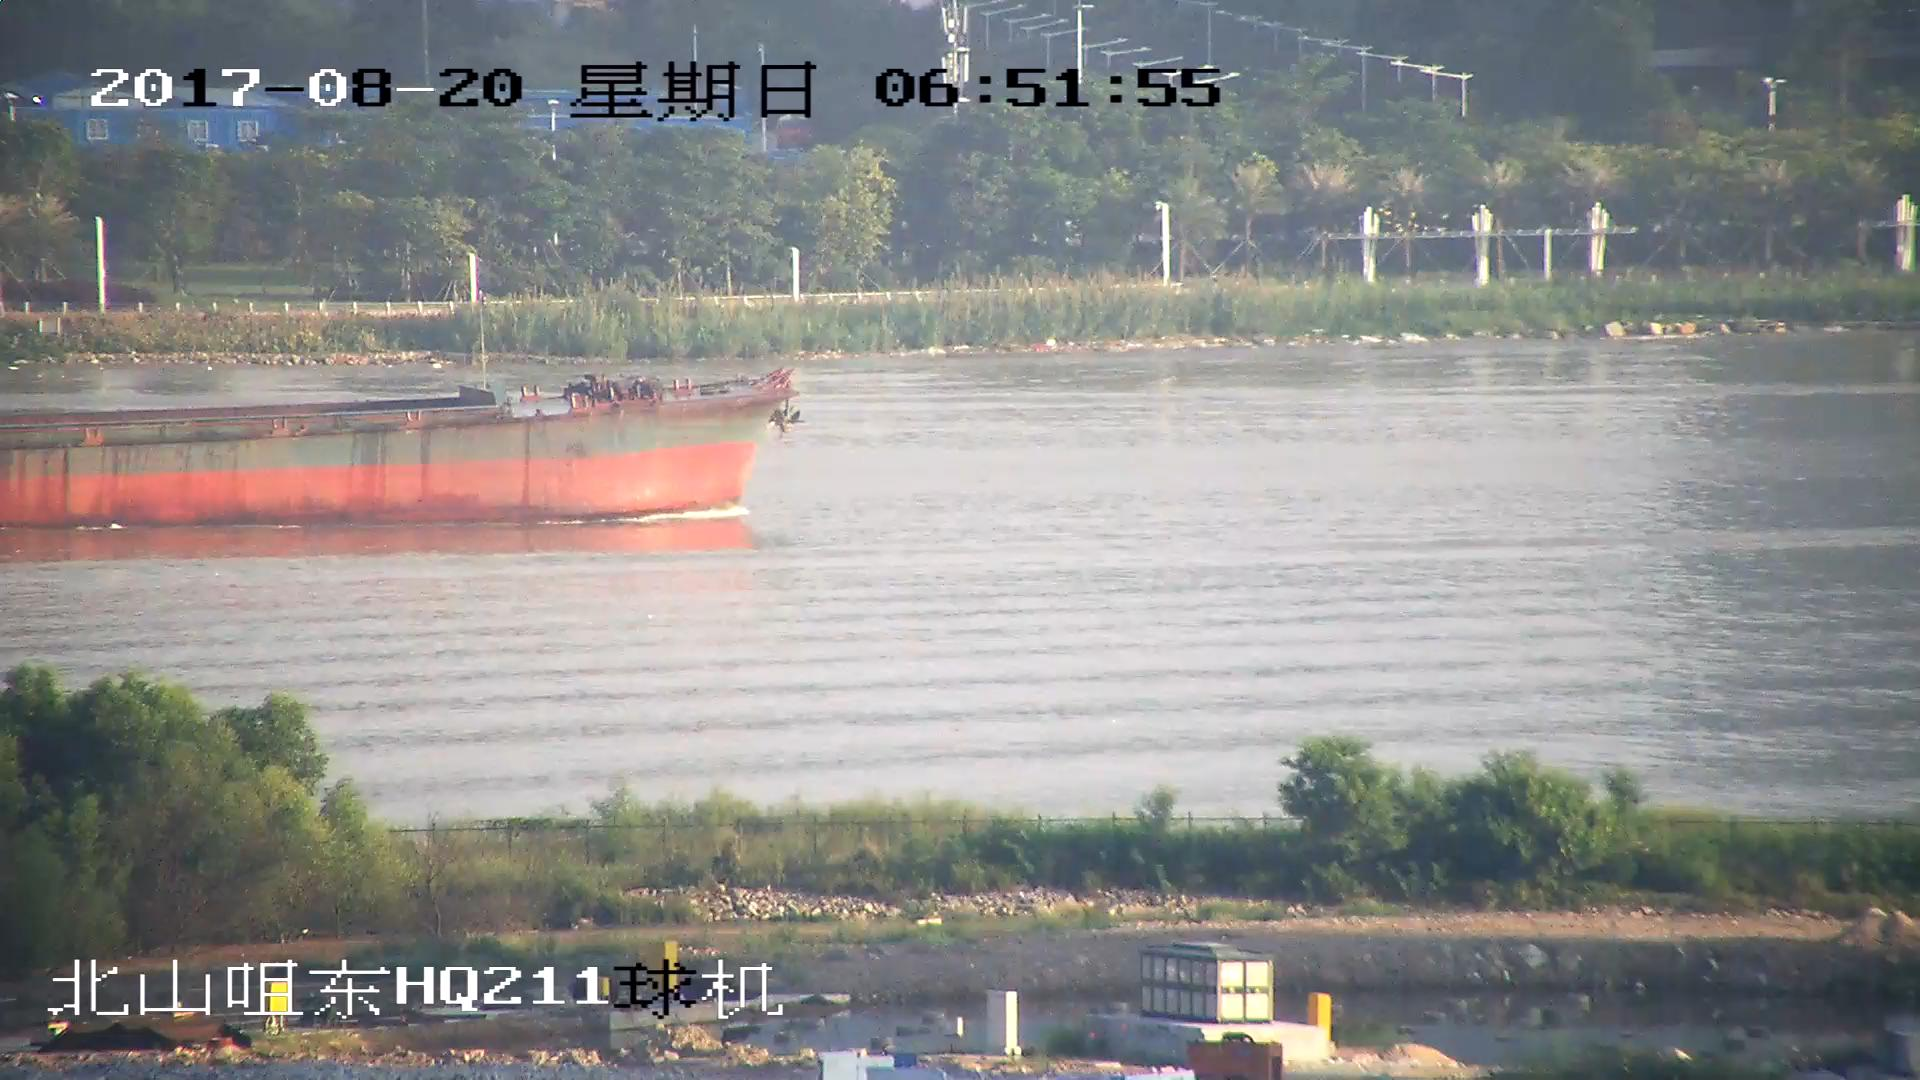bulk cargo carrier: (1, 364, 796, 533)
